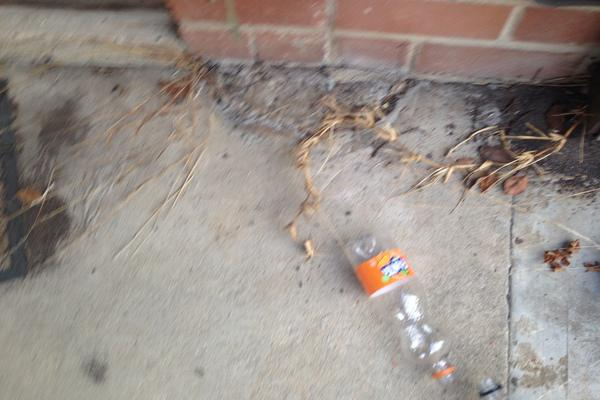Plastic Bottle: (345, 227, 456, 381)
